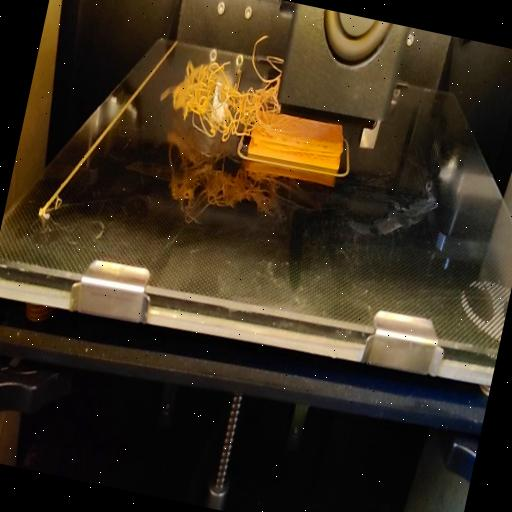spaghetti: (184, 24, 287, 158)
